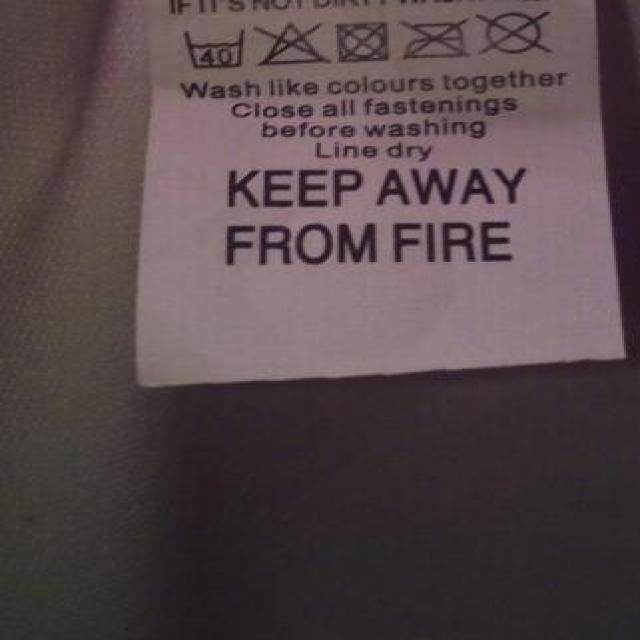40C: (183, 23, 248, 70)
DN_bleach: (254, 18, 327, 70)
DN_dry_clean: (478, 8, 552, 60)
DN_iron: (400, 16, 471, 62)
DN_tumble_dry: (332, 17, 393, 66)
